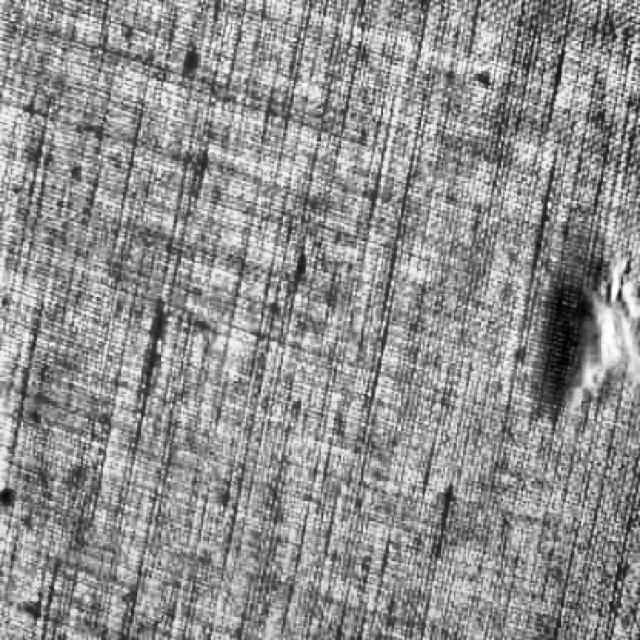objects: (510, 232, 639, 443)
